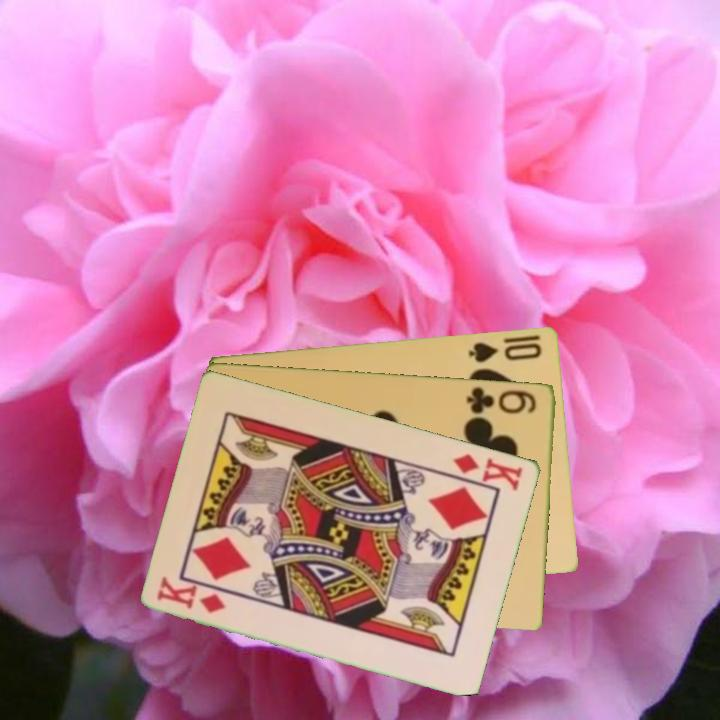10s: (465, 338, 545, 365)
6c: (463, 383, 539, 417)
Kd: (449, 449, 526, 493), (154, 574, 230, 616)
